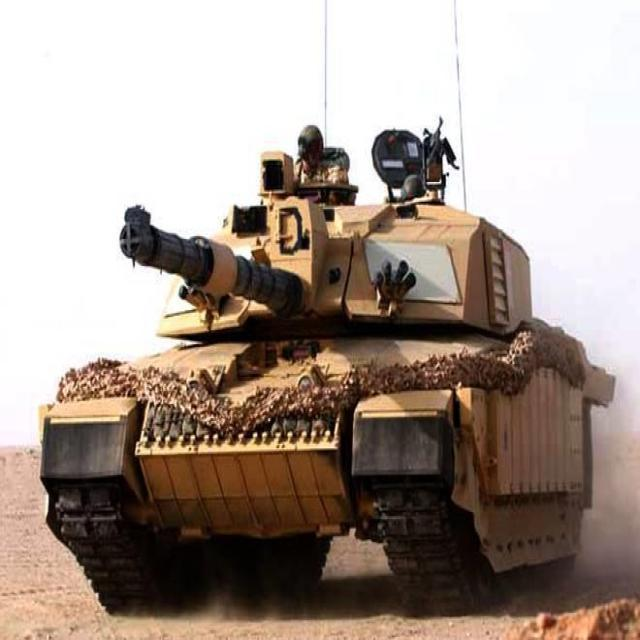MIL_MBT: (16, 159, 614, 609)
